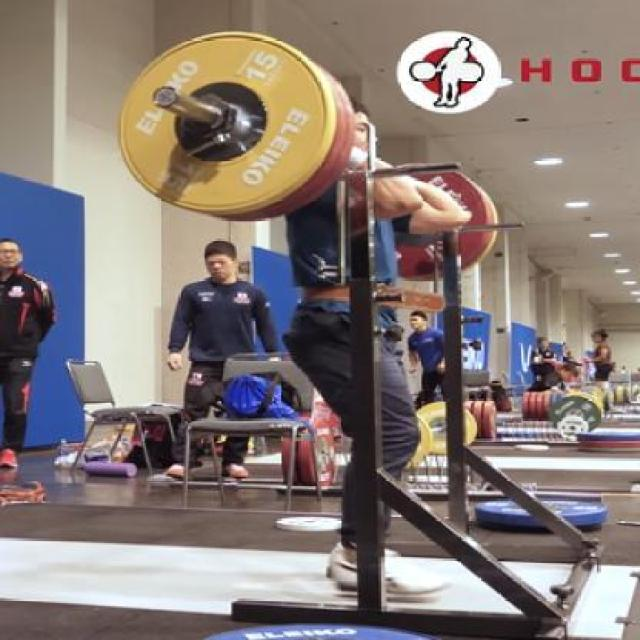barbell: (109, 26, 338, 223)
